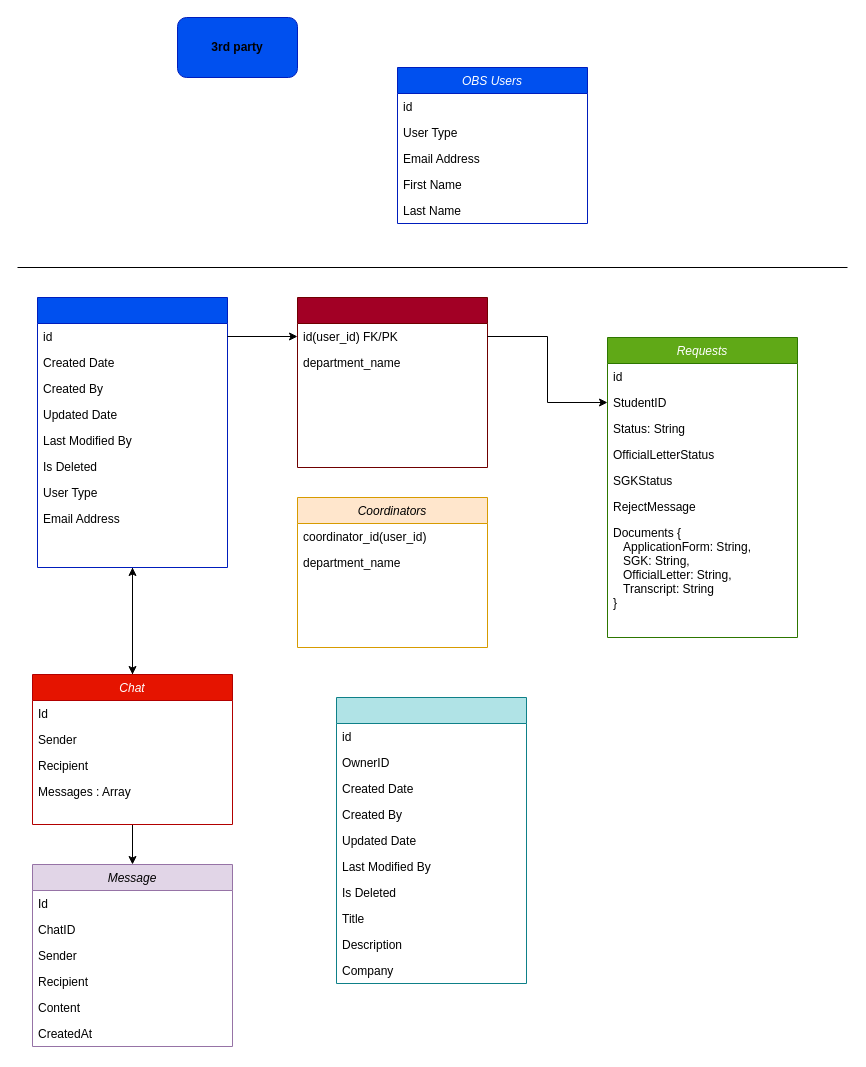
Some shapes in this 866 by 1067 pixel diagram are drawn without their labels. The shapes that lost their labels are listed below. From the top down, each one's box as (x1, y1, x2, y2) in pixels, then its label:
(296, 296, 488, 468): Students
(36, 296, 228, 568): Users
(336, 696, 526, 984): Announcements
